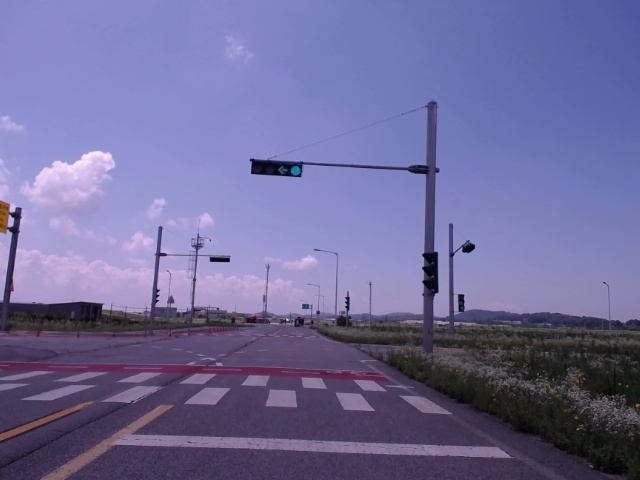all_green_4: (247, 157, 310, 178)
